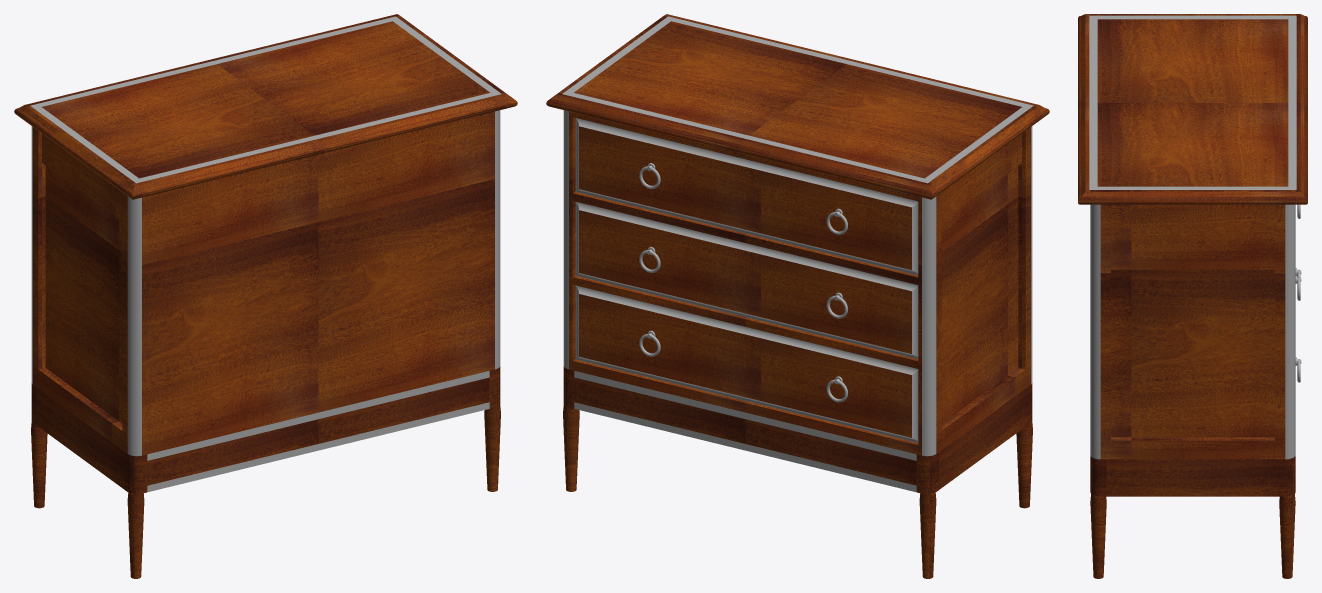
3 renders of one model, left to right at view 1: azimuth 30°, elevation 25°; view 2: azimuth 150°, elevation 25°; view 3: azimuth 270°, elevation 25°, orthographic. The views are drawn at different scales.
Parts seen in each view (by area): view 1: mesh9_mesh9-geometry, mesh2_mesh2-geometry, mesh10_mesh10-geometry, mesh1_mesh1-geometry, mesh6_mesh6-geometry, mesh5_mesh5-geometry, mesh4_mesh4-geometry, mesh7_mesh7-geometry, mesh8_mesh8-geometry, mesh3_mesh3-geometry; view 2: mesh14_mesh14-geometry, mesh9_mesh9-geometry, mesh2_mesh2-geometry, mesh13_mesh13-geometry, mesh10_mesh10-geometry, mesh1_mesh1-geometry, mesh6_mesh6-geometry, mesh5_mesh5-geometry, mesh3_mesh3-geometry, mesh8_mesh8-geometry, mesh7_mesh7-geometry, mesh4_mesh4-geometry (+1 smaller); view 3: mesh9_mesh9-geometry, mesh2_mesh2-geometry, mesh1_mesh1-geometry, mesh10_mesh10-geometry, mesh5_mesh5-geometry, mesh3_mesh3-geometry, mesh4_mesh4-geometry, mesh7_mesh7-geometry, mesh8_mesh8-geometry.
Part boxes in pixels (left/top/right/bottom): mesh9_mesh9-geometry: left=33, top=111, right=494, bottom=455; mesh2_mesh2-geometry: left=42, top=21, right=489, bottom=178; mesh10_mesh10-geometry: left=36, top=377, right=489, bottom=489; mesh1_mesh1-geometry: left=14, top=14, right=517, bottom=199; mesh6_mesh6-geometry: left=147, top=371, right=489, bottom=492; mesh5_mesh5-geometry: left=30, top=16, right=501, bottom=183; mesh4_mesh4-geometry: left=127, top=196, right=141, bottom=456; mesh7_mesh7-geometry: left=31, top=366, right=500, bottom=508; mesh8_mesh8-geometry: left=124, top=452, right=147, bottom=578; mesh3_mesh3-geometry: left=31, top=110, right=500, bottom=384; mesh14_mesh14-geometry: left=579, top=126, right=911, bottom=437; mesh9_mesh9-geometry: left=569, top=111, right=1030, bottom=455; mesh2_mesh2-geometry: left=574, top=21, right=1021, bottom=178; mesh13_mesh13-geometry: left=575, top=118, right=918, bottom=442; mesh10_mesh10-geometry: left=574, top=377, right=1027, bottom=489; mesh1_mesh1-geometry: left=546, top=14, right=1049, bottom=199; mesh6_mesh6-geometry: left=574, top=371, right=916, bottom=492; mesh5_mesh5-geometry: left=562, top=16, right=1033, bottom=183; mesh3_mesh3-geometry: left=922, top=196, right=936, bottom=456; mesh8_mesh8-geometry: left=563, top=366, right=1032, bottom=508; mesh7_mesh7-geometry: left=916, top=452, right=939, bottom=578; mesh4_mesh4-geometry: left=563, top=110, right=1032, bottom=384; mesh9_mesh9-geometry: left=1100, top=204, right=1285, bottom=459; mesh2_mesh2-geometry: left=1097, top=19, right=1288, bottom=186; mesh1_mesh1-geometry: left=1078, top=14, right=1307, bottom=204; mesh10_mesh10-geometry: left=1106, top=459, right=1279, bottom=496; mesh5_mesh5-geometry: left=1089, top=15, right=1296, bottom=189; mesh3_mesh3-geometry: left=1090, top=204, right=1100, bottom=459; mesh4_mesh4-geometry: left=1285, top=204, right=1295, bottom=459; mesh7_mesh7-geometry: left=1090, top=456, right=1106, bottom=578; mesh8_mesh8-geometry: left=1279, top=456, right=1295, bottom=578.
Size of the model in its own units: 0.6665 by 0.6571 by 0.3521.
